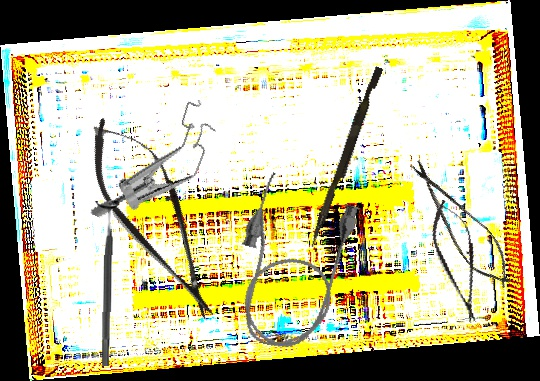Cannula: (218, 169, 364, 359)
Fixation Ring: (91, 200, 122, 367)
Micro Scissor: (69, 102, 241, 335), (399, 152, 523, 297), (423, 195, 493, 328)
Pusher: (308, 64, 384, 251)
Speculum: (88, 77, 226, 247)
